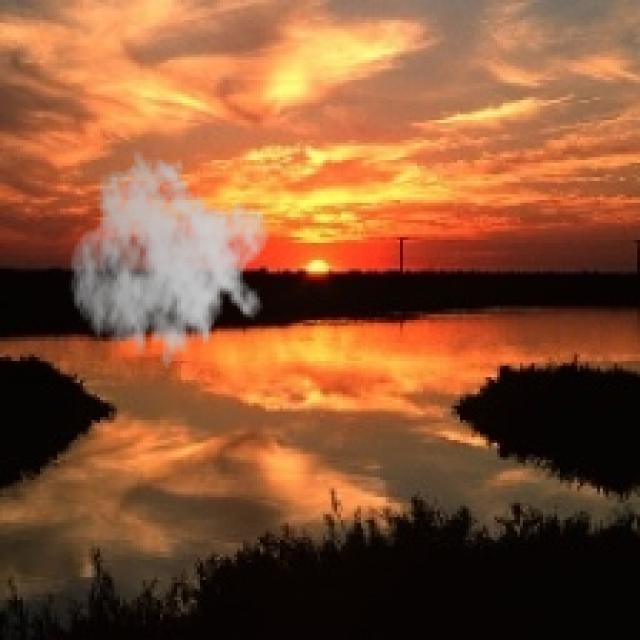Smoke: (68, 148, 272, 383)
